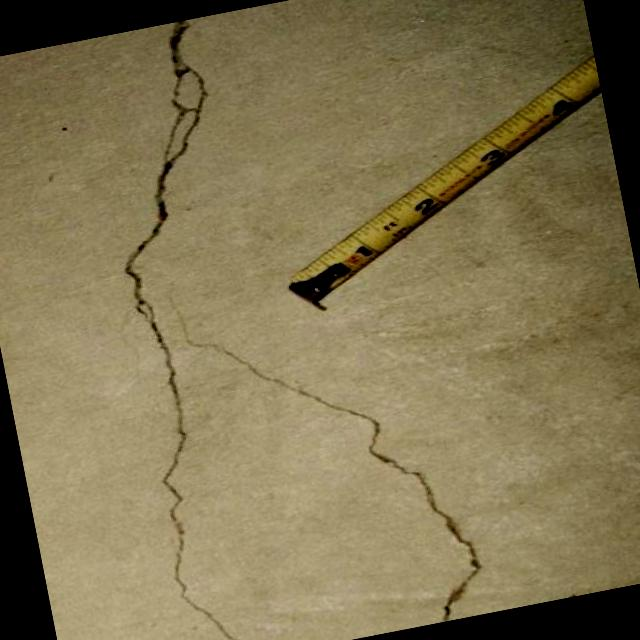crack: (66, 18, 319, 640), (174, 287, 494, 640)
